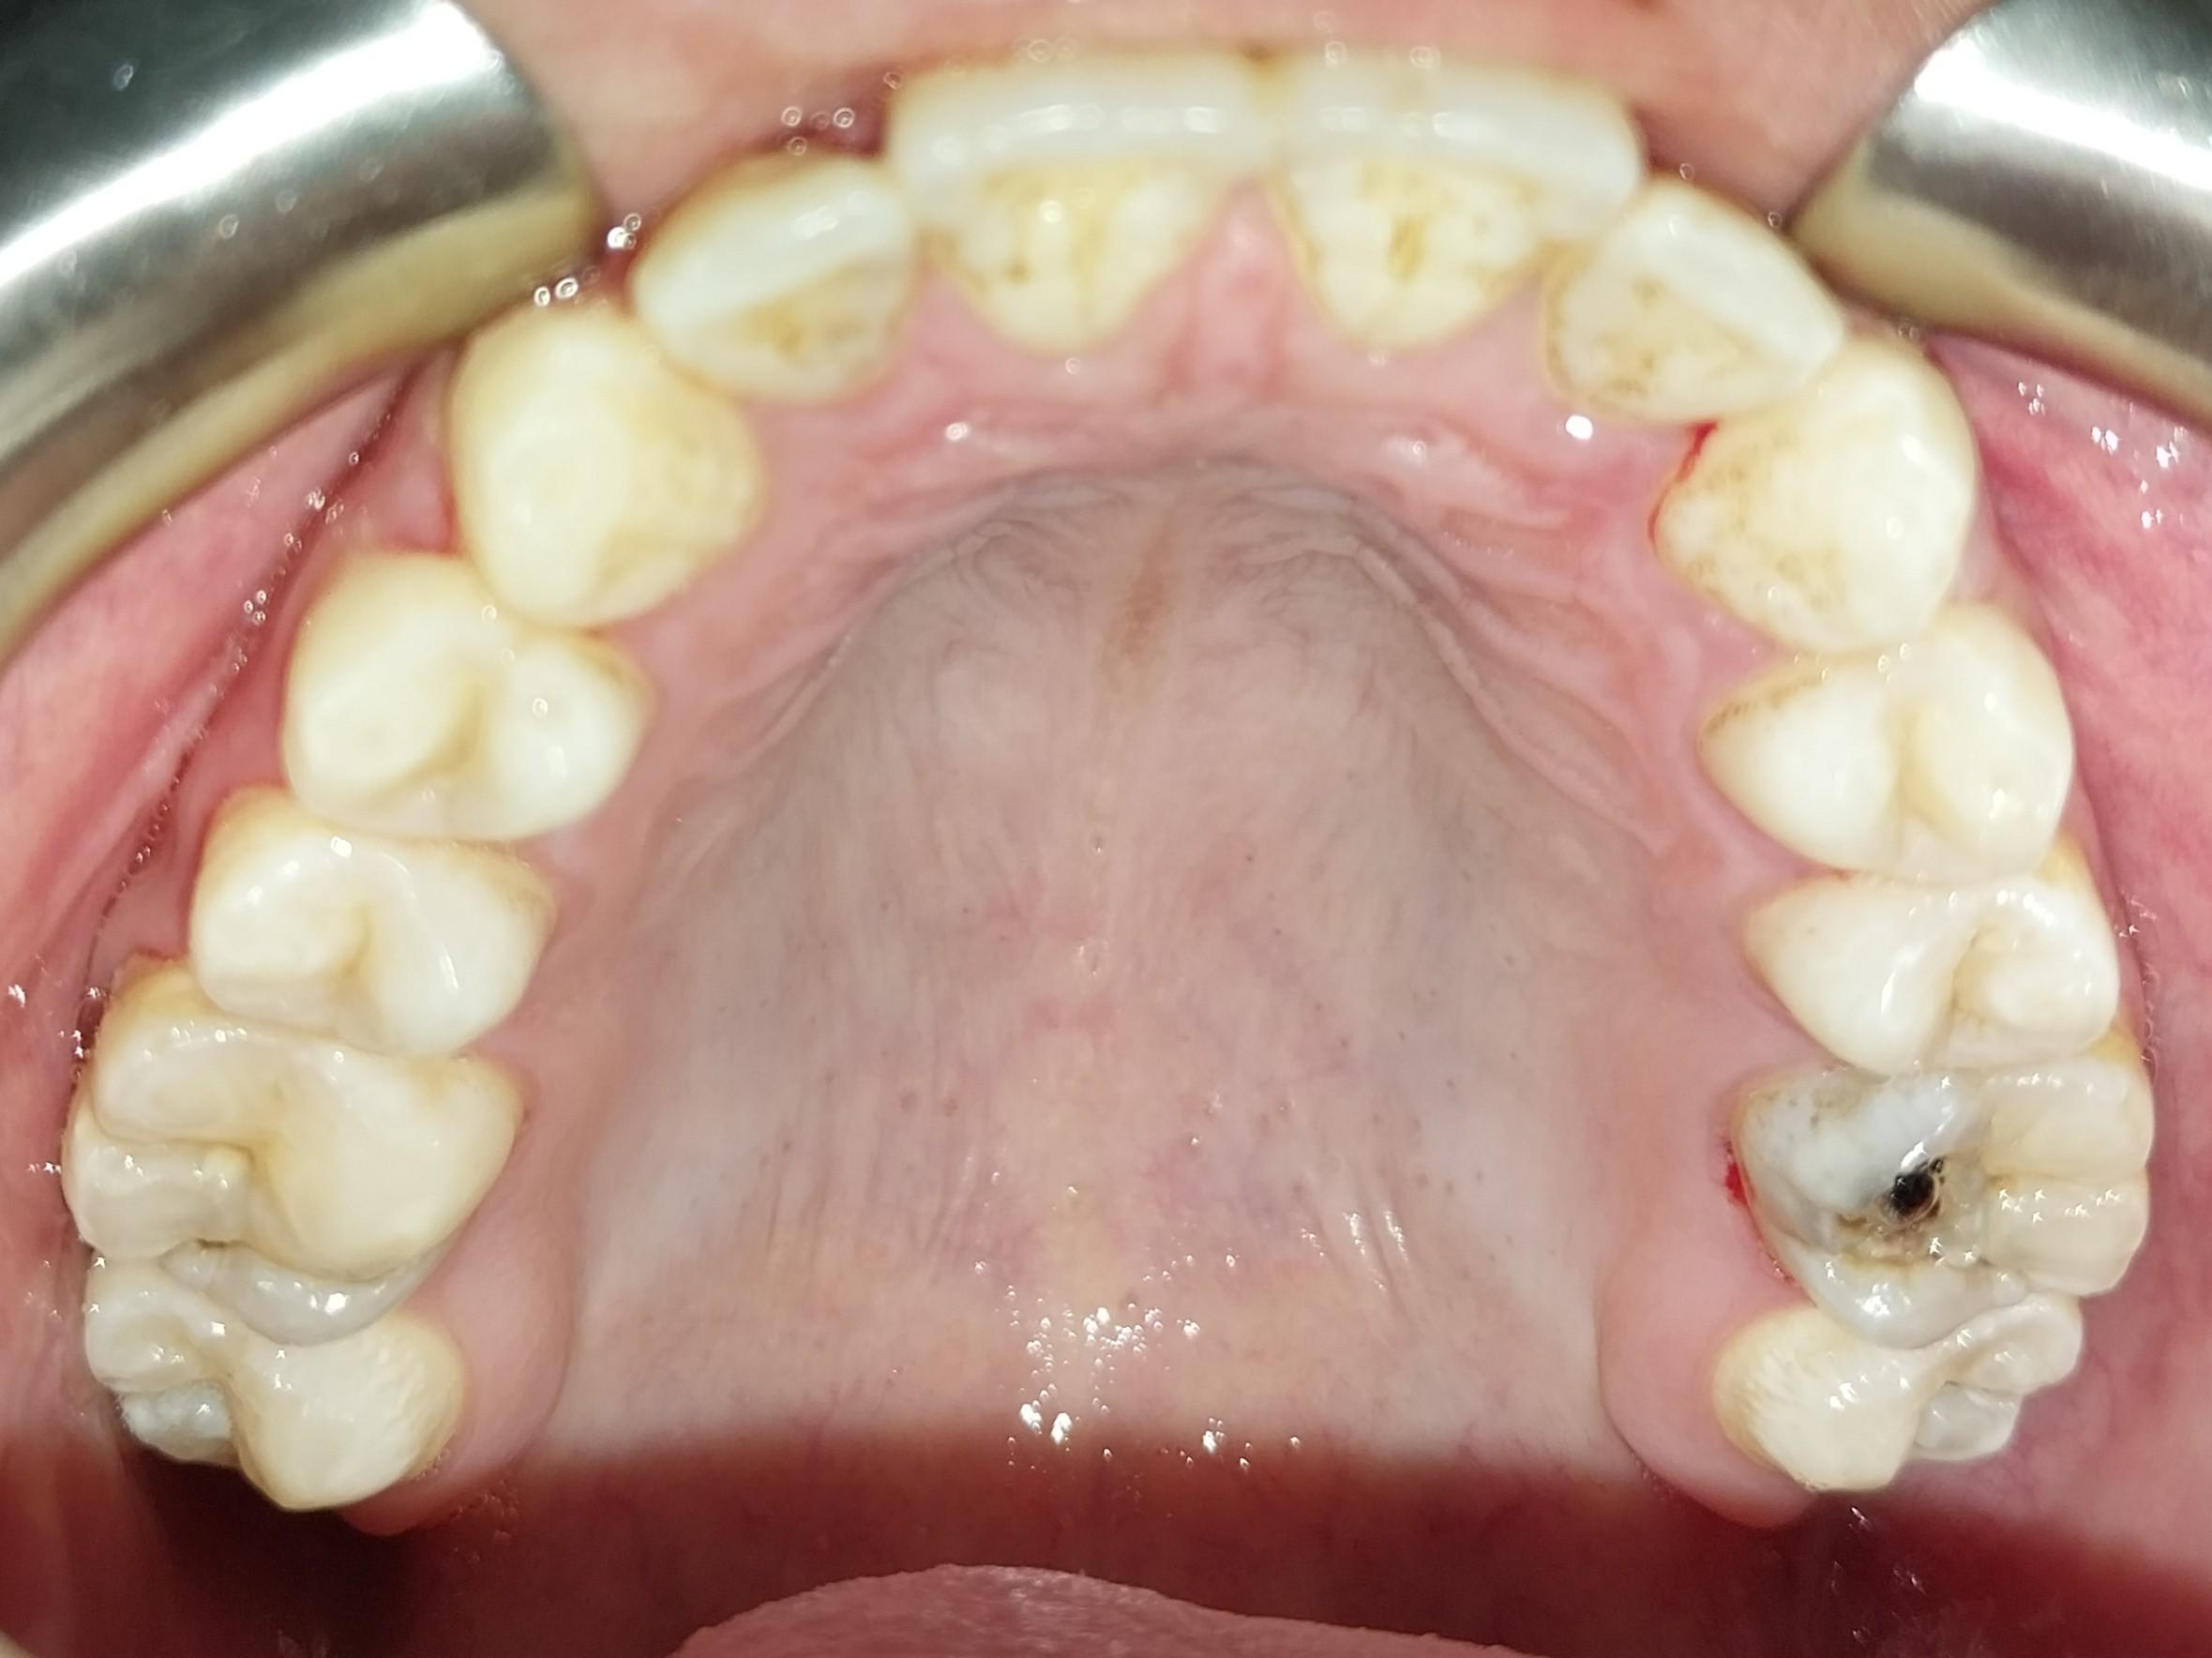D: (1742, 1039, 2143, 1346)
